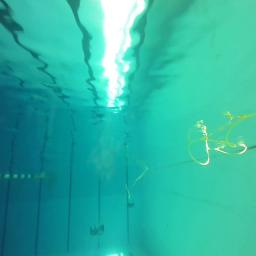Full: (90, 224, 104, 235), (127, 201, 135, 207)
